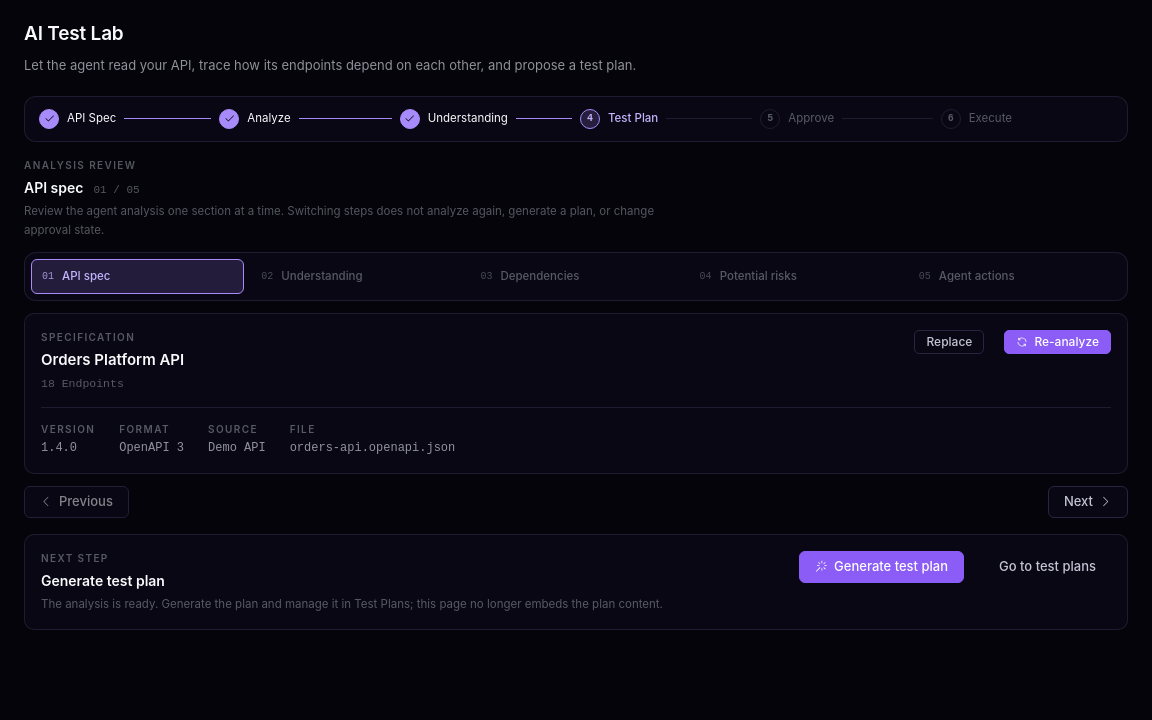
Test: AI Test Lab review and plan handoff integration › shows a failure and no success state when generation fails
Click the button "Generate test plan" at (882, 566), box x1=799 y1=550 x2=964 y2=582
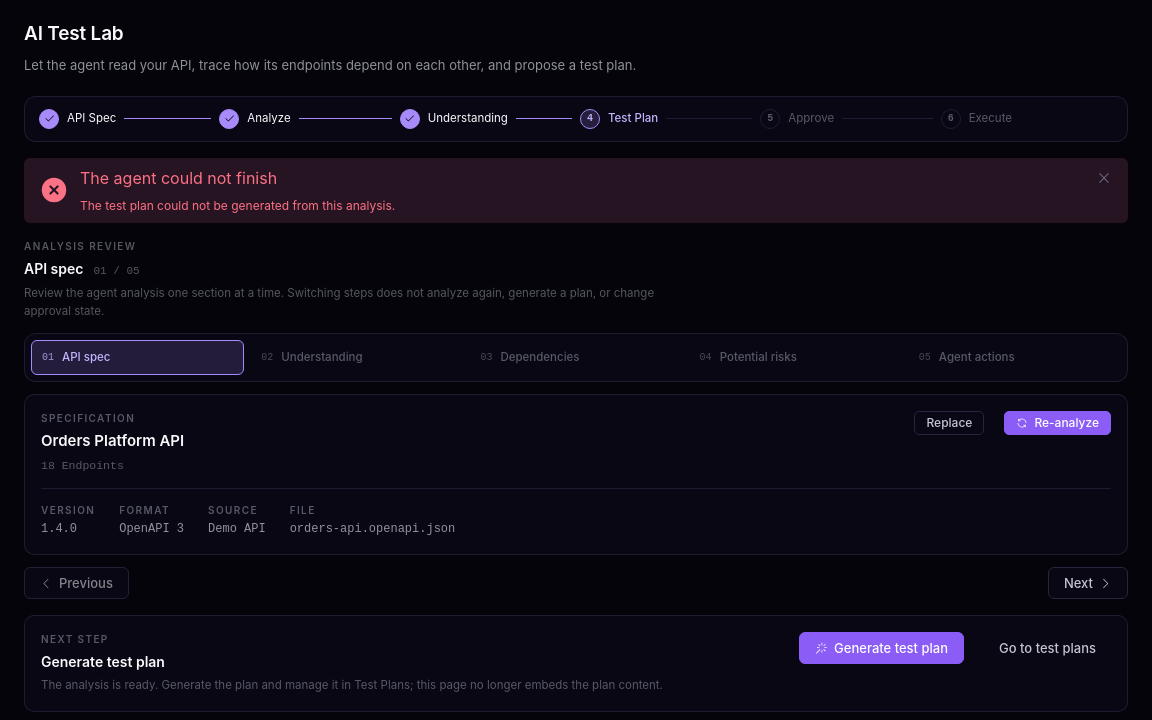
Check: the button "Generate test plan" is shown, box x1=799 y1=632 x2=964 y2=664
Check: the text "The test plan could not be generated from this analysis." is shown, box x1=80 y1=198 x2=395 y2=213
